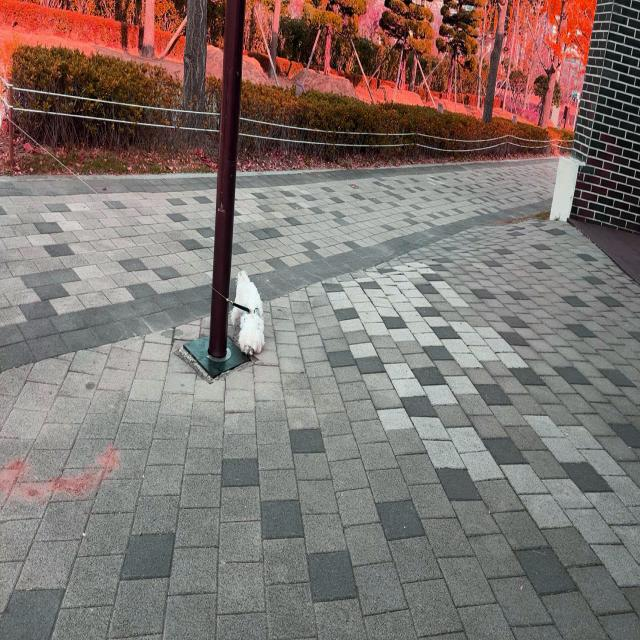Dog: (230, 268, 266, 358)
